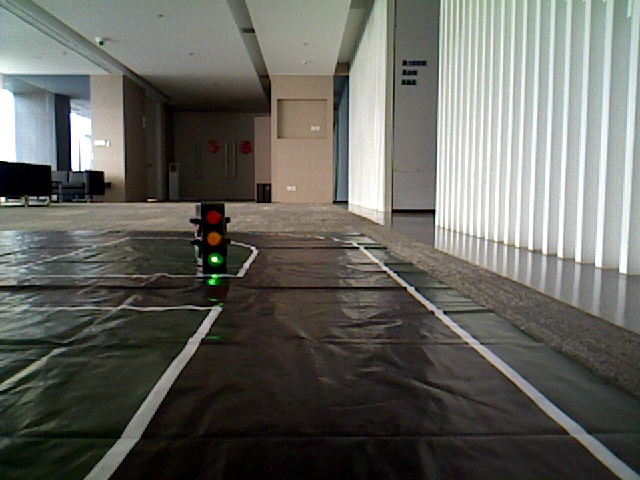green: (199, 206, 225, 268)
